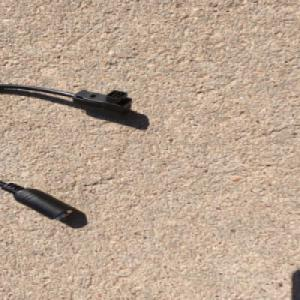Wire: (0, 81, 137, 224)
